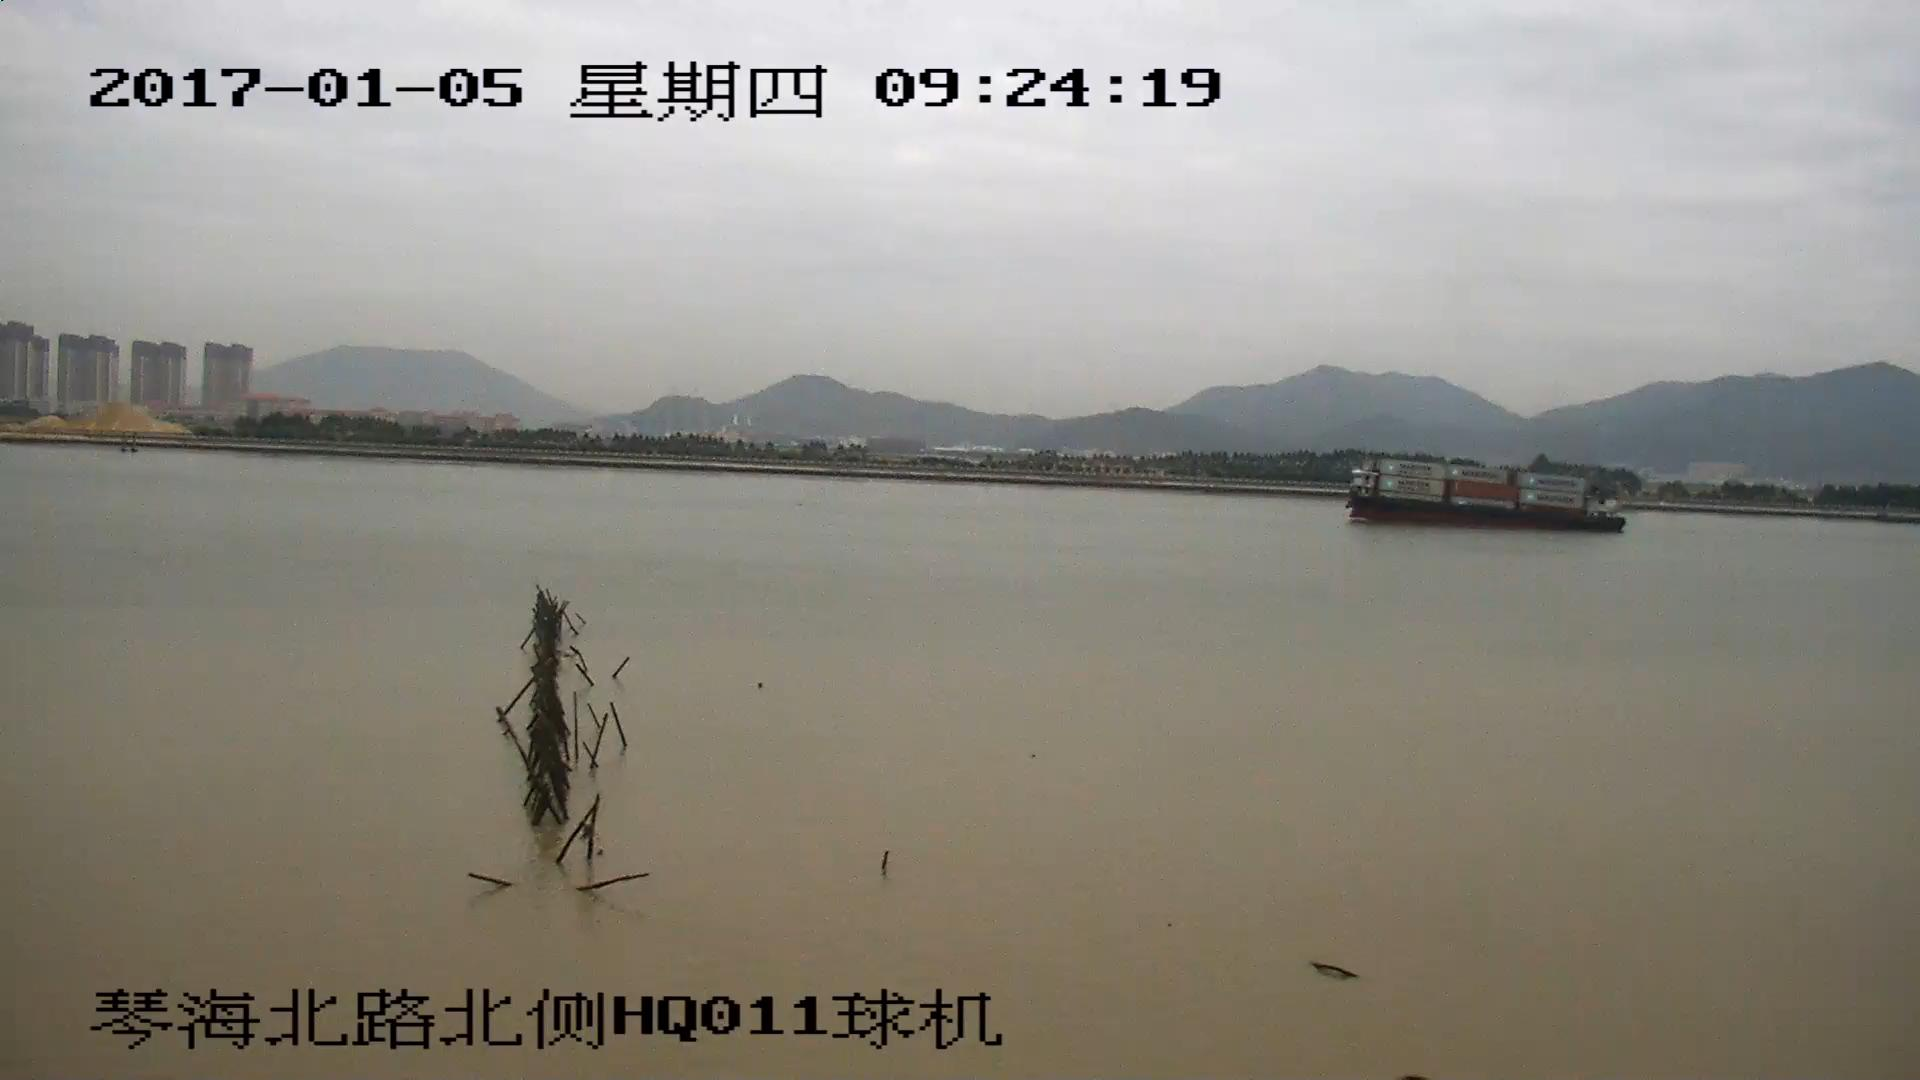container ship: (1351, 460, 1620, 527)
